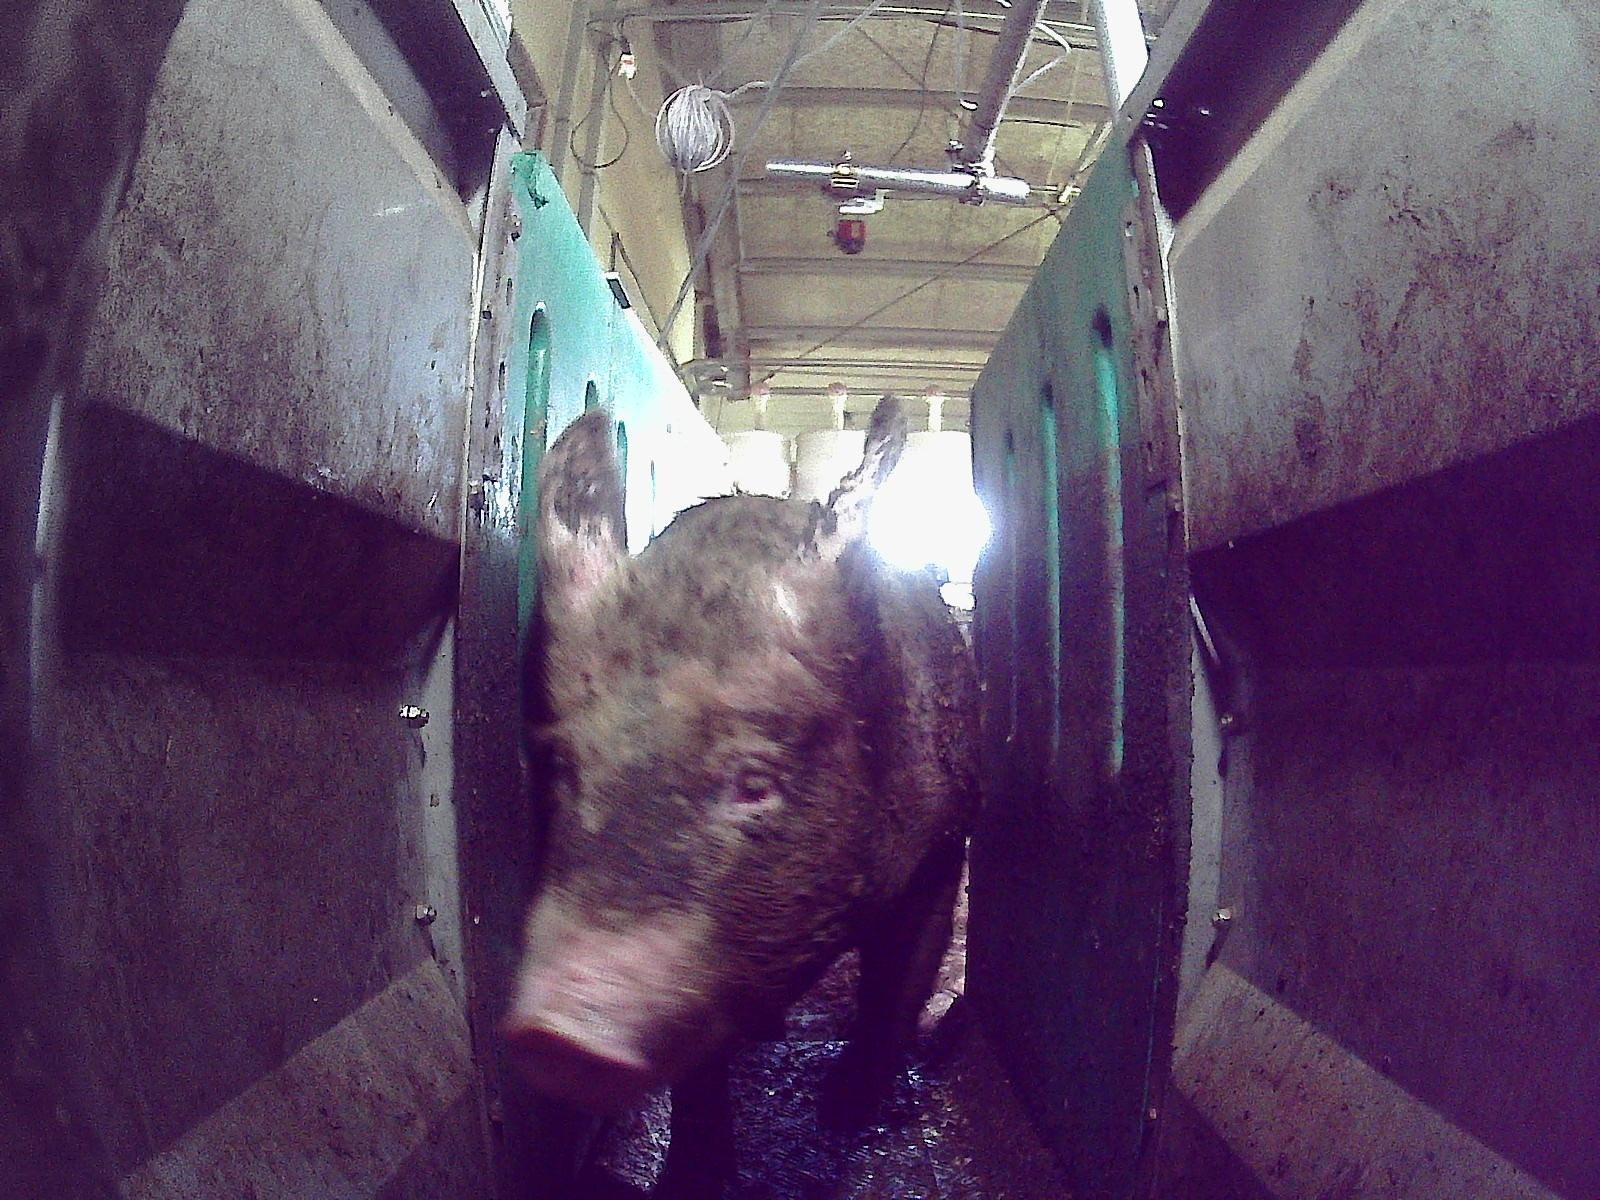Face: (504, 540, 857, 1111)
